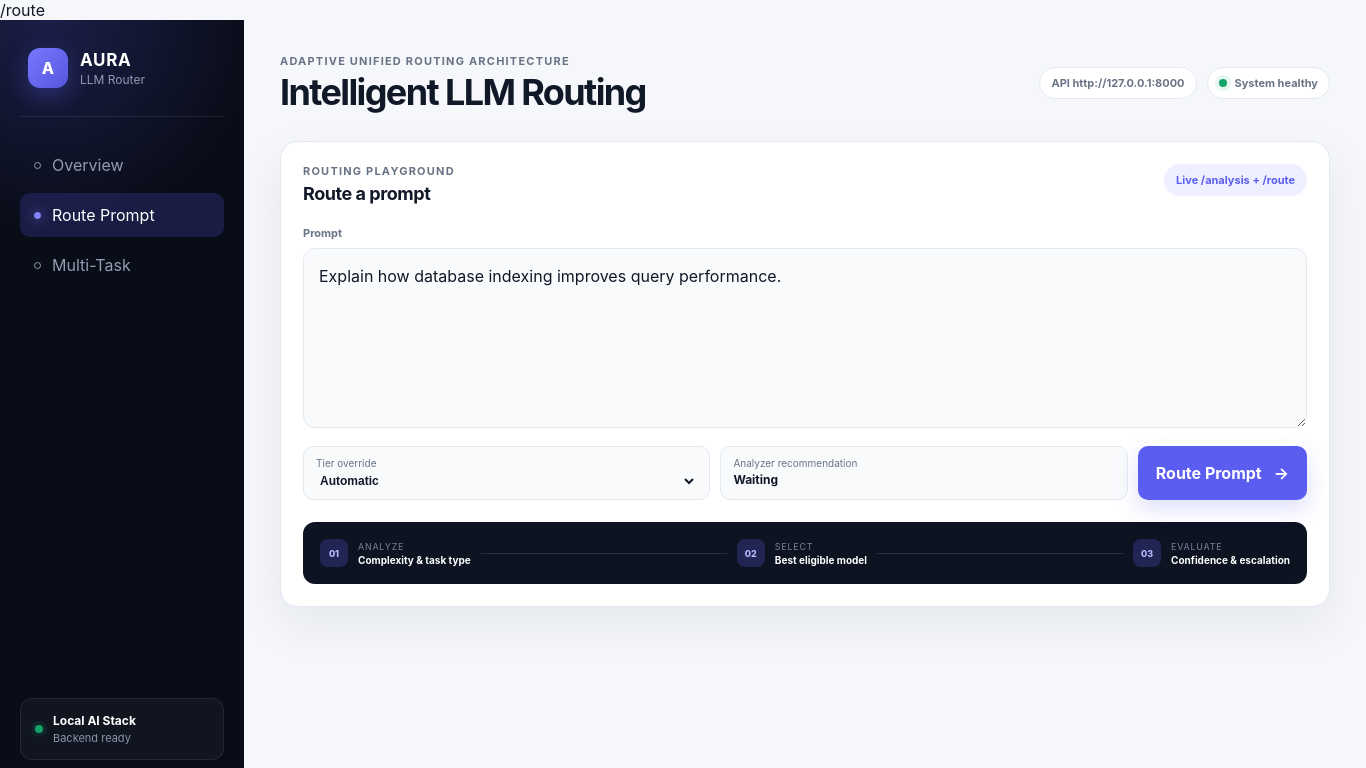
AURA routed dashboard › clears loading feedback when routing fails
The width and height of the screenshot is (1366, 768).
Check: the text "System healthy" is shown, box [1206, 67, 1330, 99]
Click the button "Route Prompt →": (1222,473) [1138, 446, 1307, 500]
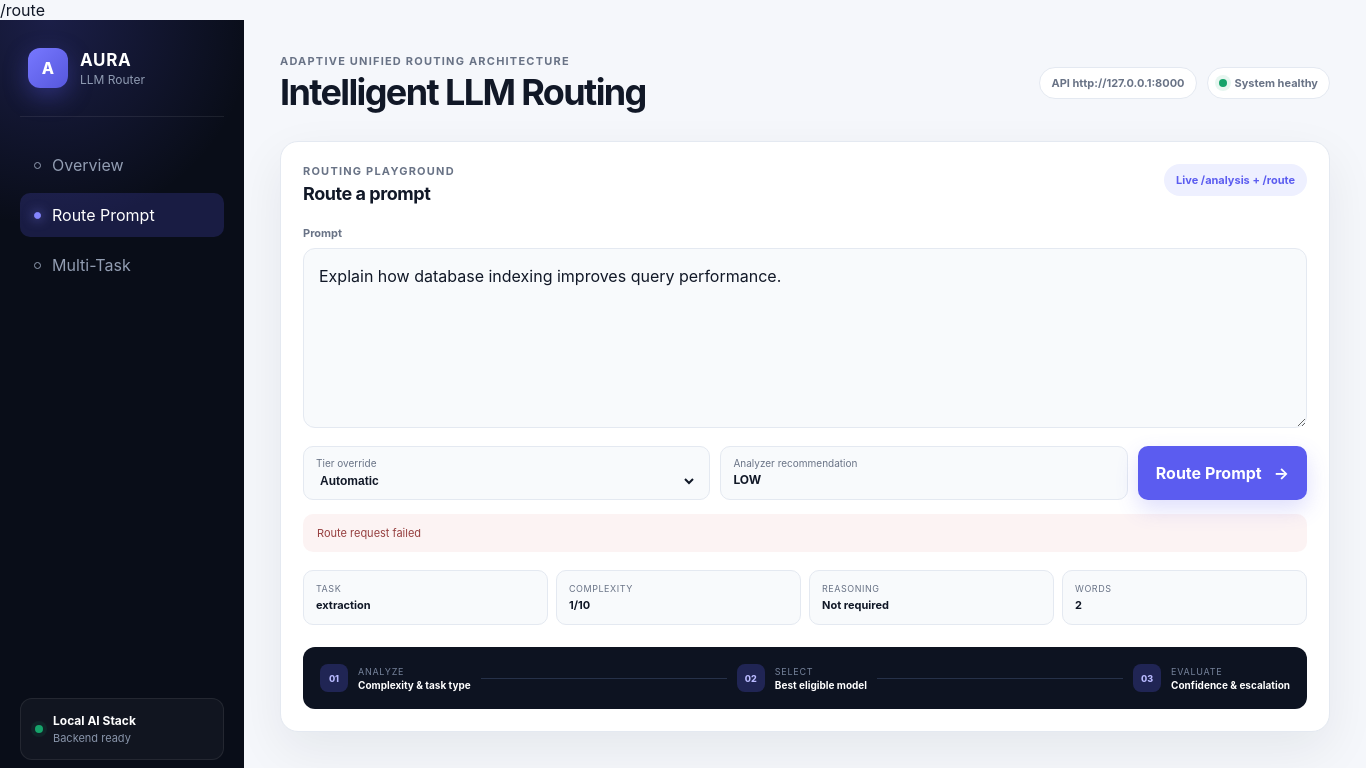
Check: the message "Route request failed" is shown, box [303, 514, 1307, 552]
